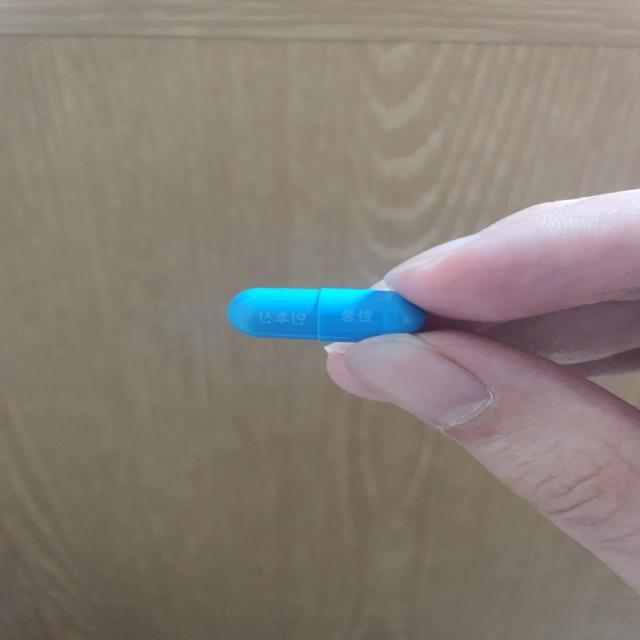pill: (222, 285, 424, 343)
